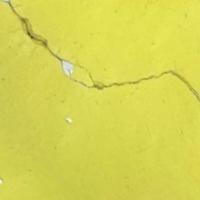crack: (4, 0, 199, 108)
